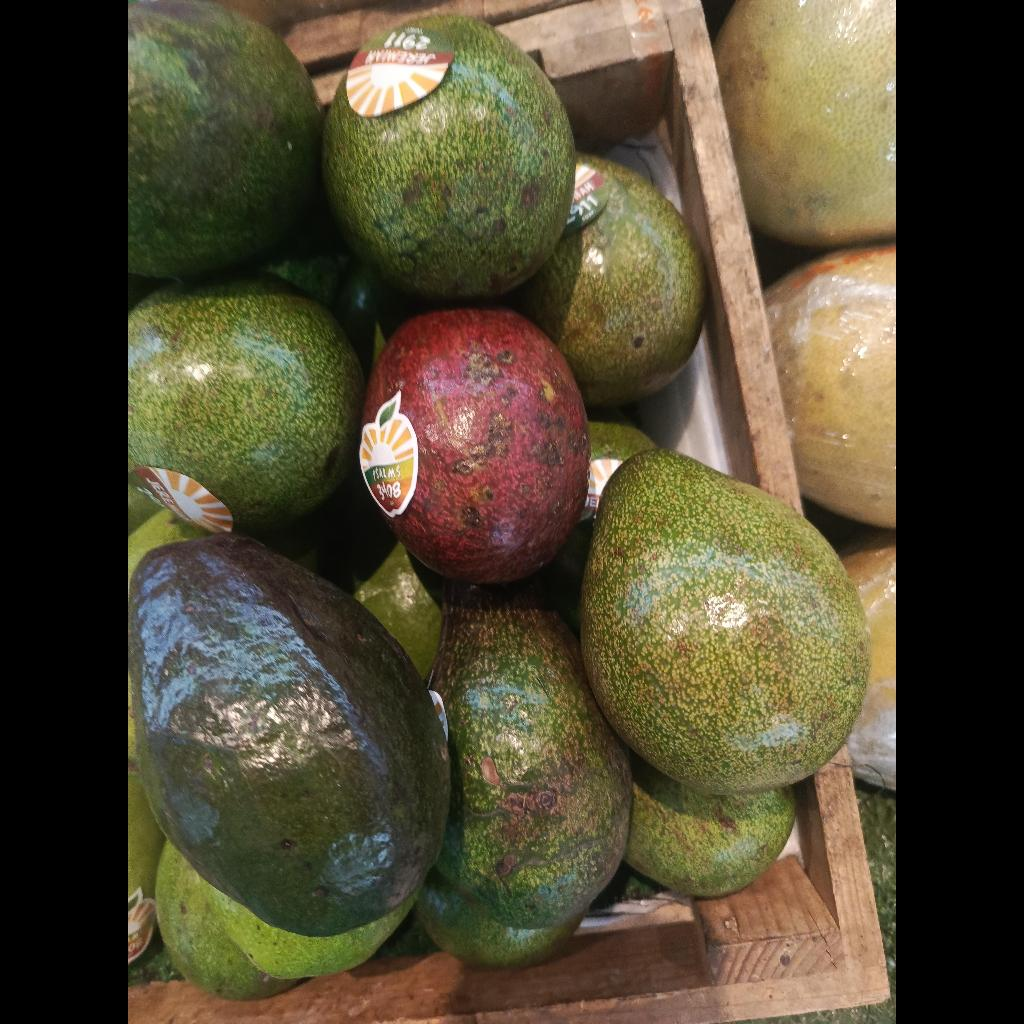anthracnose: (364, 308, 589, 583)
